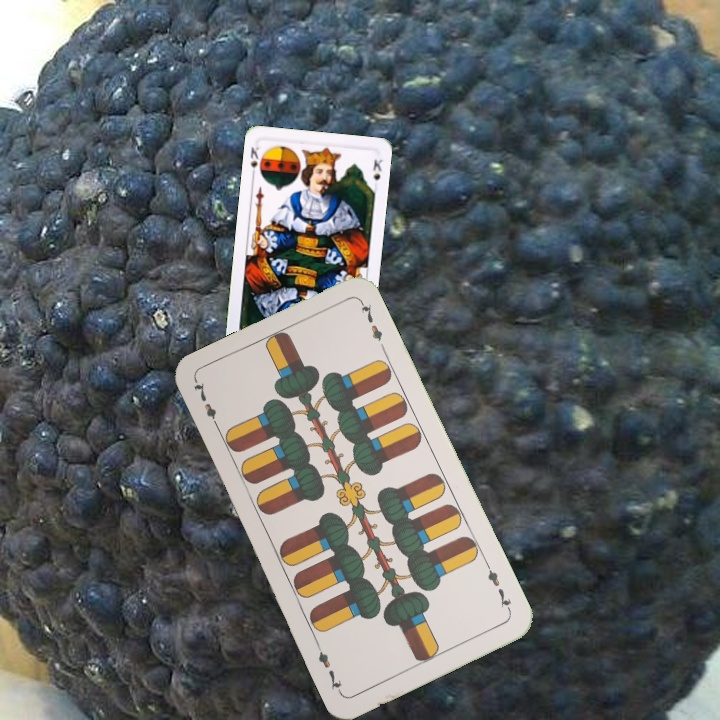E7: (190, 378, 223, 433), (482, 560, 514, 615)
SK: (246, 143, 262, 180)
